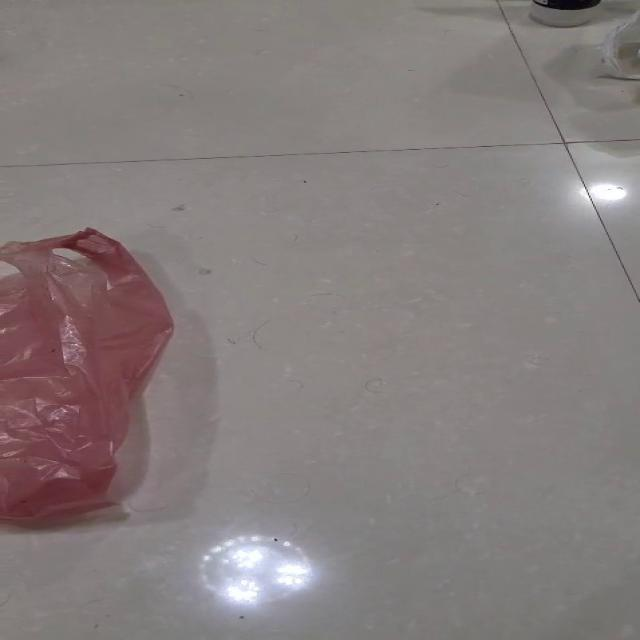plastic: (0, 226, 174, 523)
